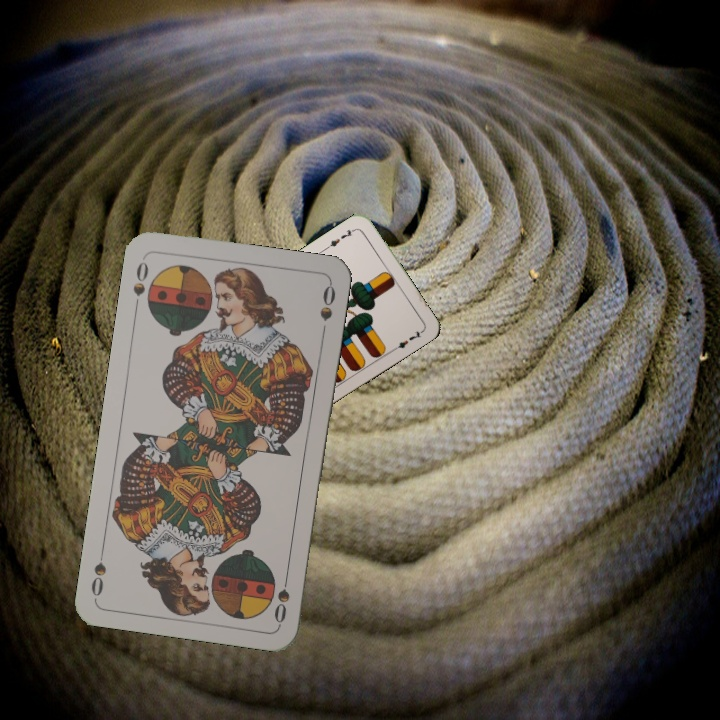E7: (322, 224, 359, 251)
SO: (270, 567, 292, 626), (129, 257, 151, 313)
